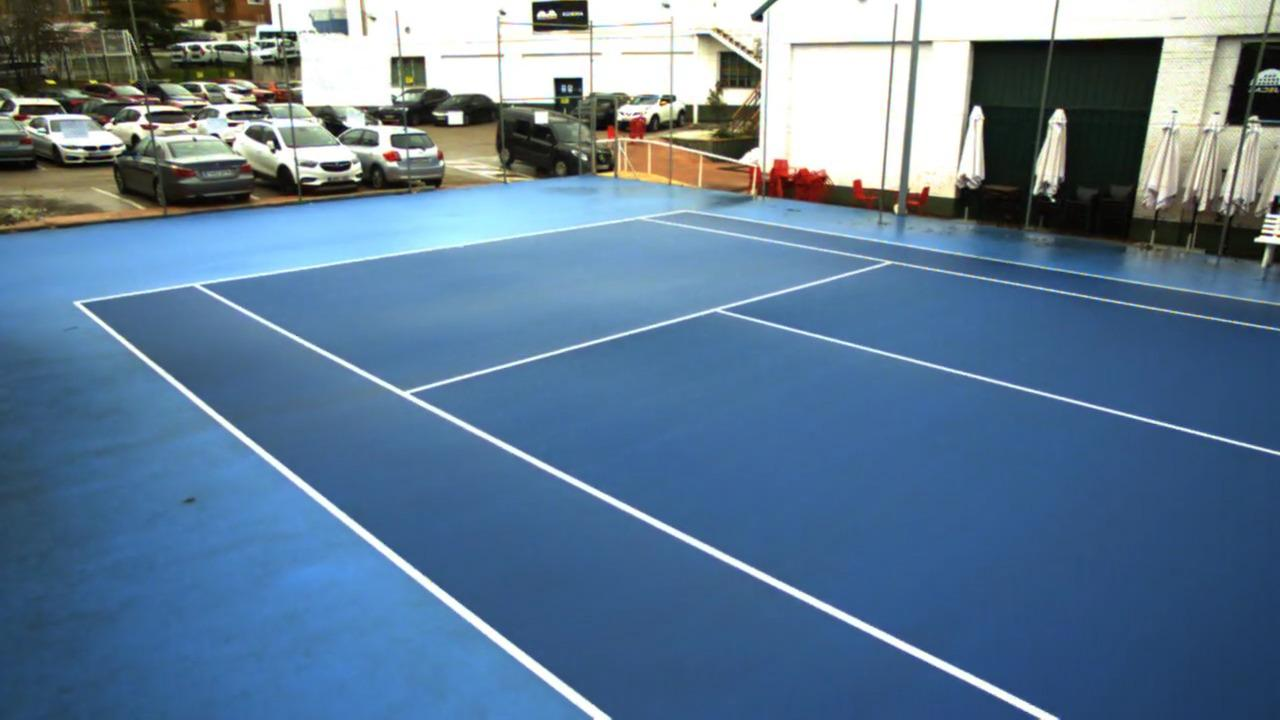cancha_tenis: (194, 217, 1280, 720)
point_f1: (182, 274, 214, 295)
point_f2: (623, 204, 658, 227)
point_fc1: (455, 241, 470, 252)
point_i1: (389, 379, 426, 411)
point_i2: (873, 249, 901, 275)
point_ic1: (699, 296, 740, 322)
